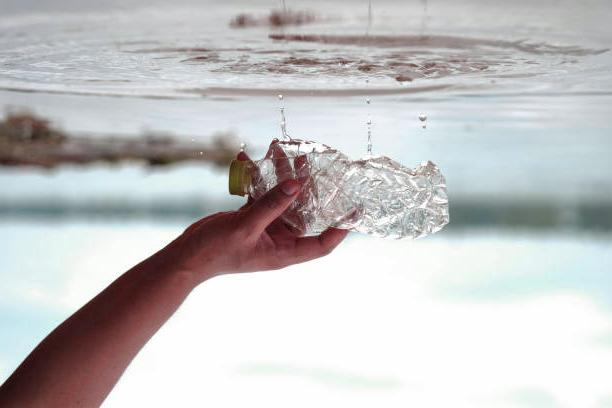Plastic: (216, 136, 452, 235)
